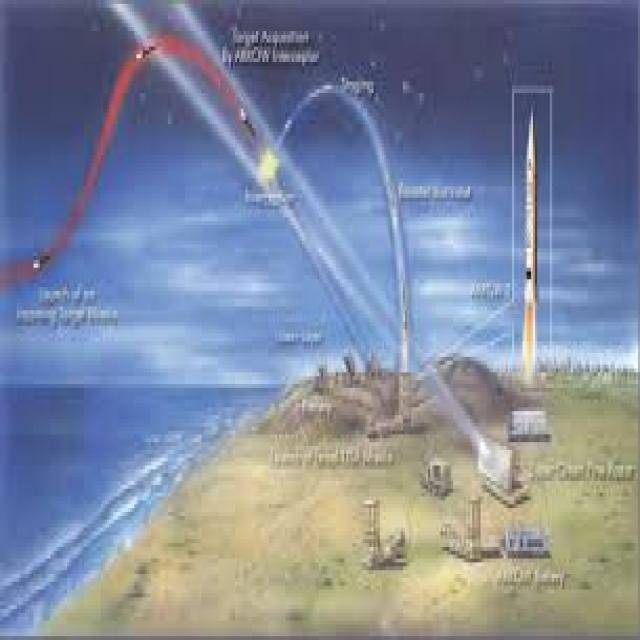Missile: (521, 110, 542, 325)
